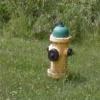Hydrant: (44, 16, 75, 84)
